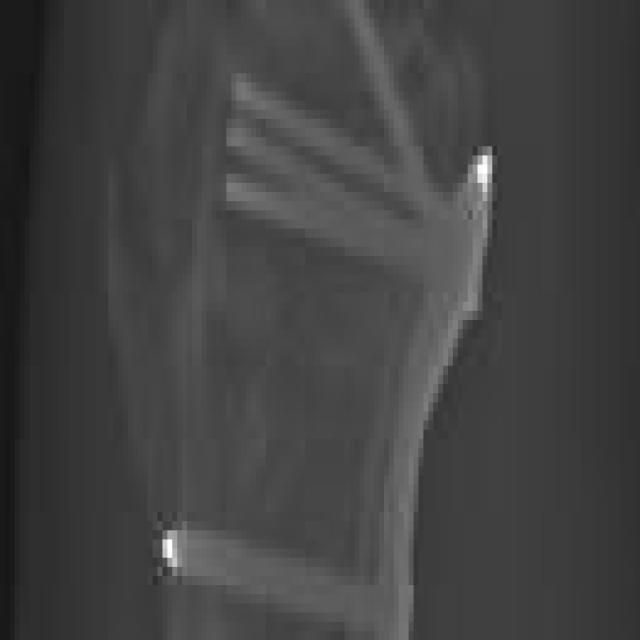fracture: (3, 2, 640, 640)
